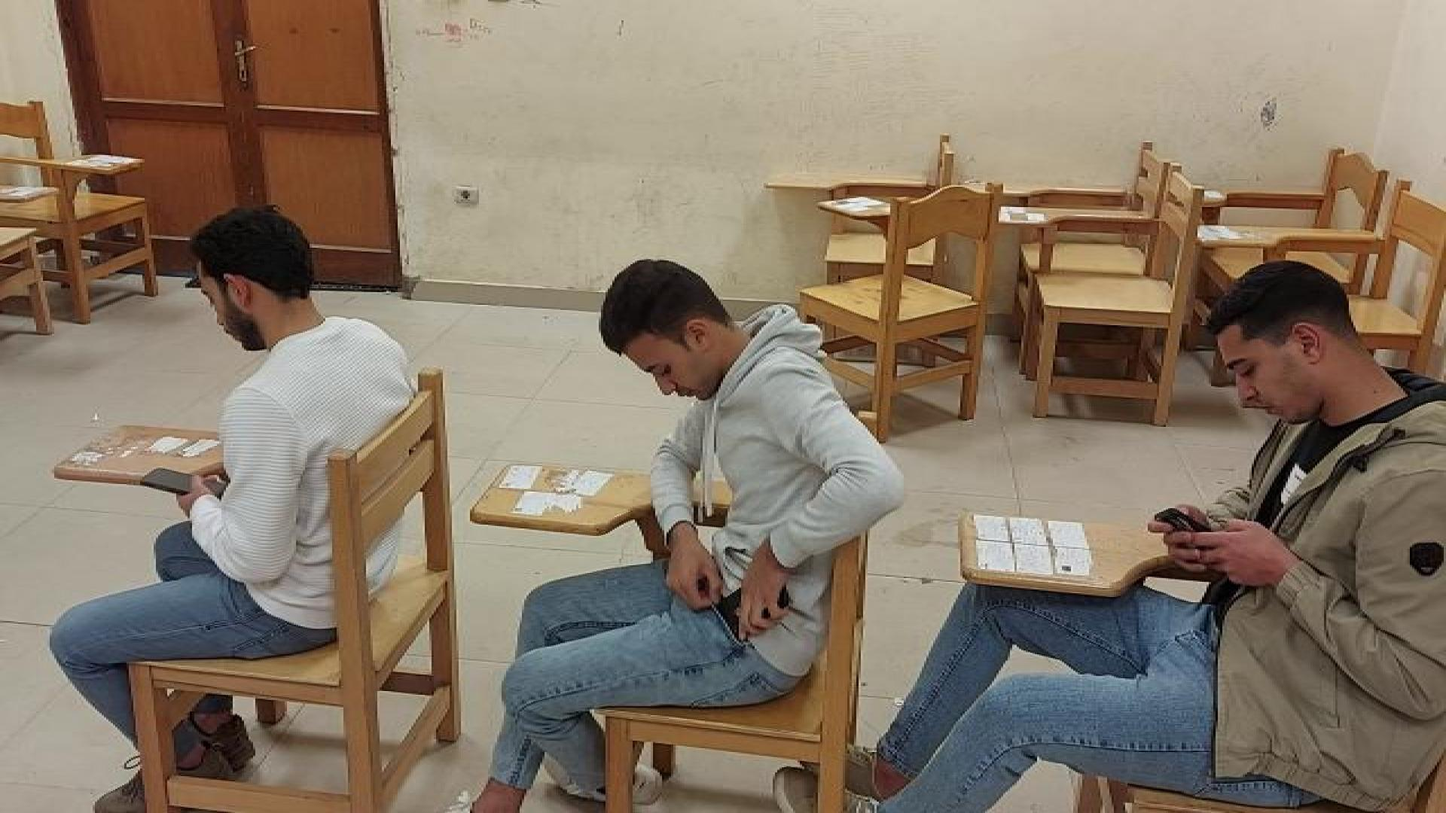phone: (696, 579, 820, 643), (140, 467, 192, 493)
